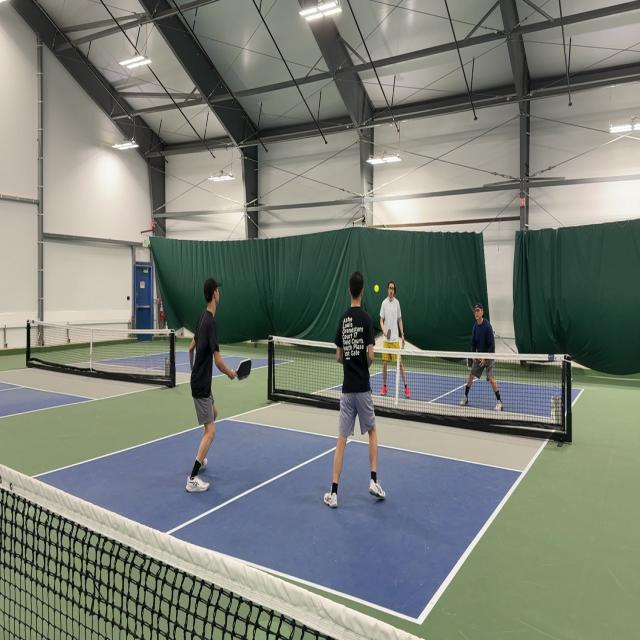ball: (374, 284, 379, 293)
